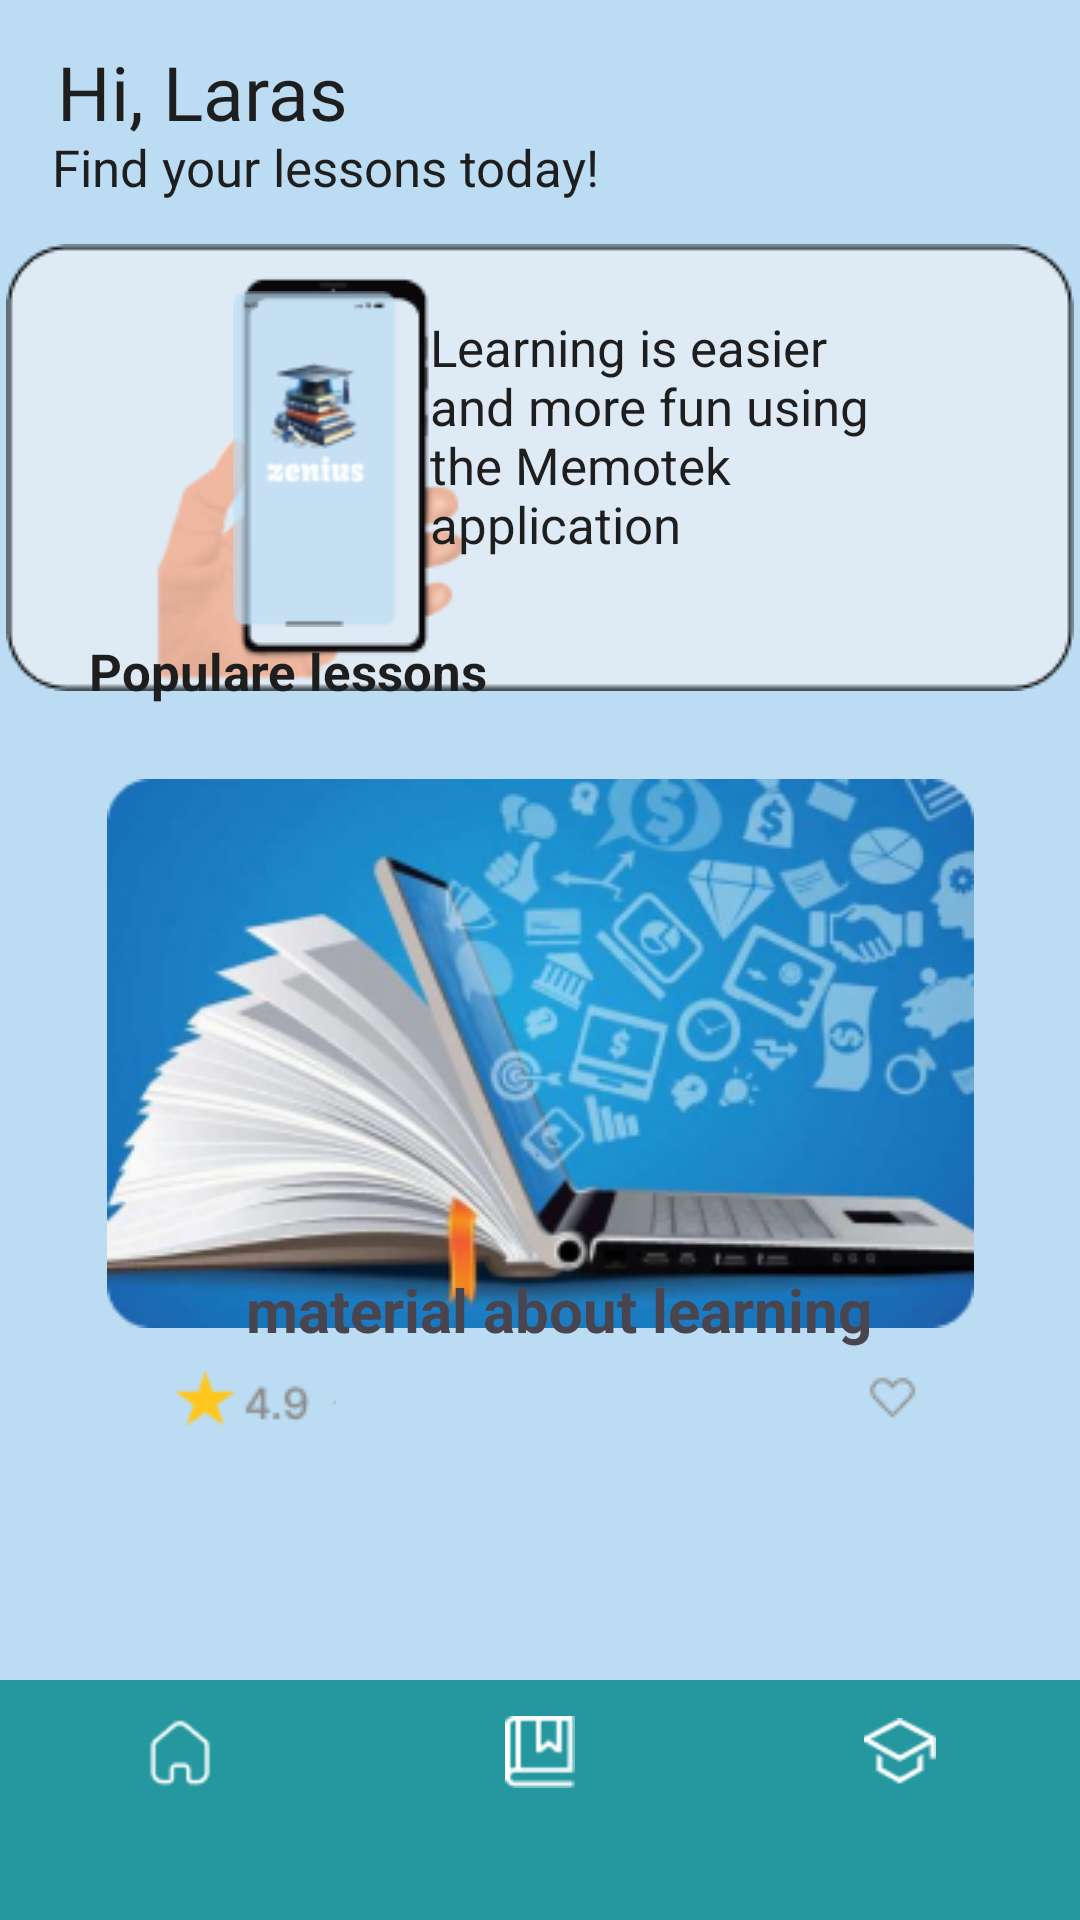

Named icons in this screenshot (1080w x 1920h) and their centers, (x=x, y=y):
love: (x=892, y=1397)
